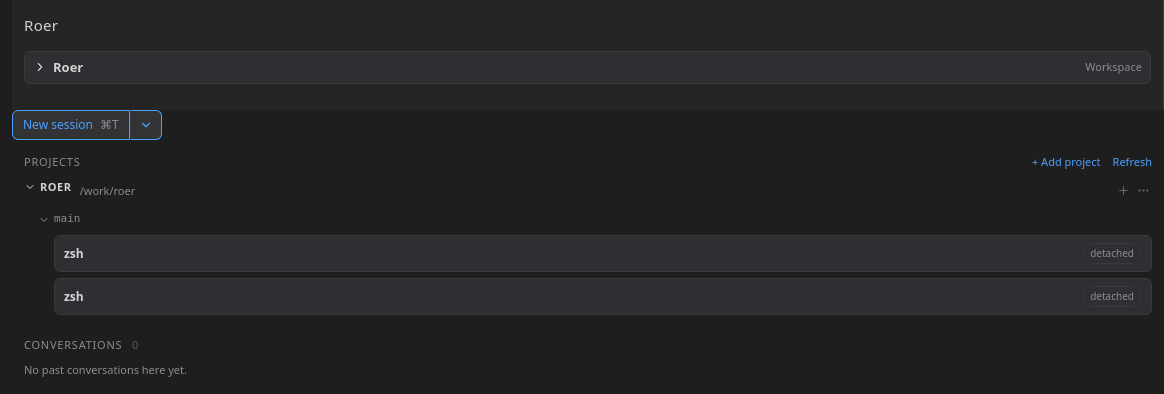
Test: grouping by checkout › folds a branch, and a Project, saying how much is hidden
The image size is (1164, 394).
Expected: the button titled "roer-a " is shown, [54,235,1152,272]
Click the button "main" at [59, 220], box [38,211,80,228]
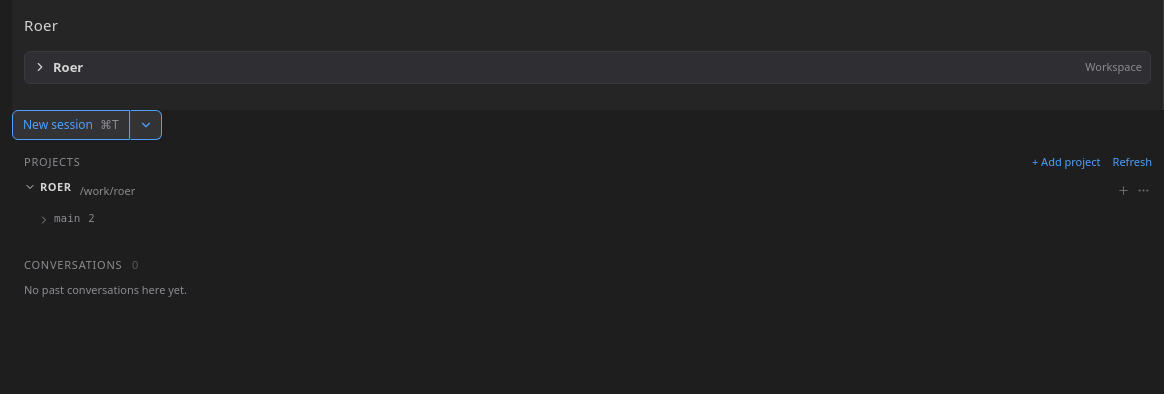
Now the button "main" is collapsed
Now the text titled "2 hidden" is shown, box [88,211,94,225]
Click the button "main" at [59, 220], box [38,211,80,228]
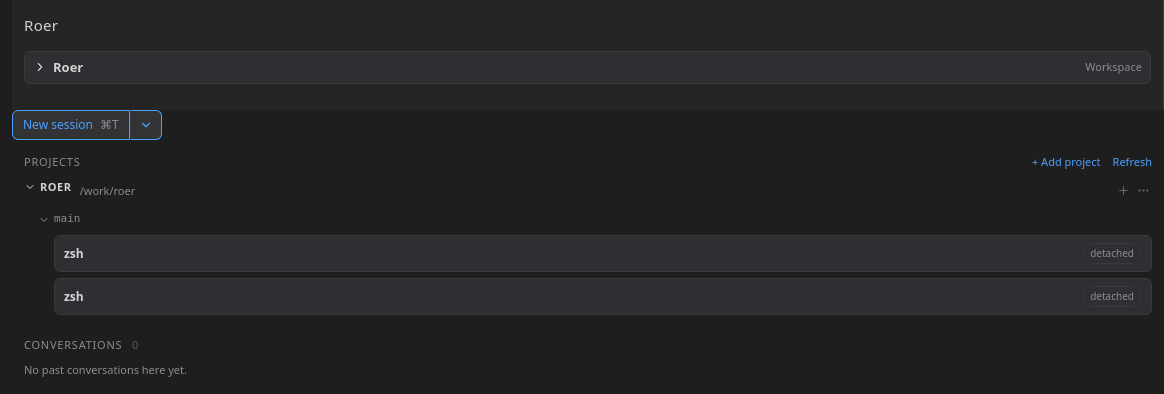
Click the button "roer" at [48, 187], box [24,178,72,195]
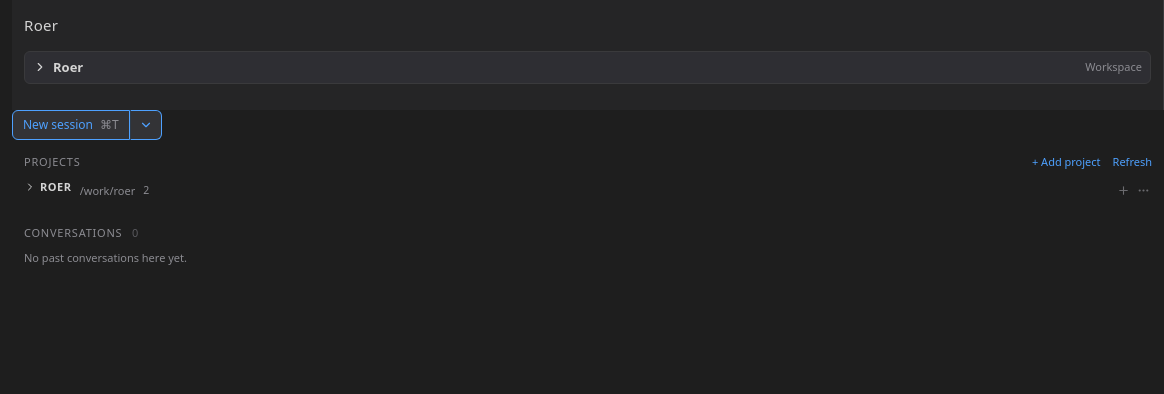
Now the button "main" is gone
